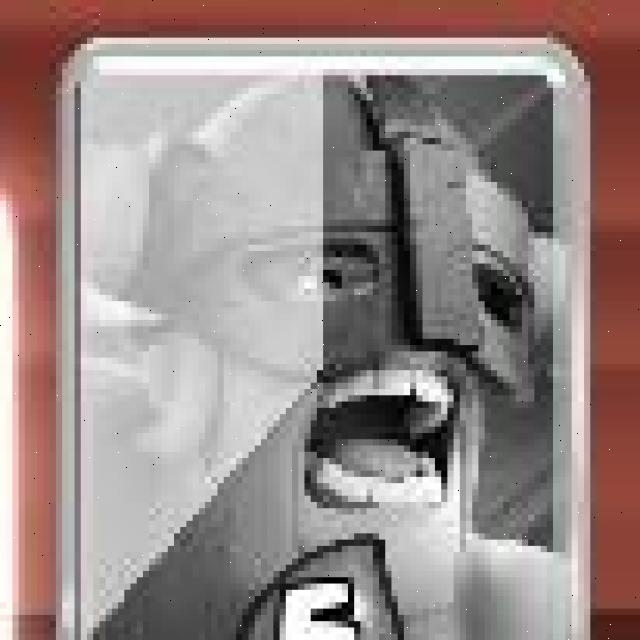Elite_Barbarians: (53, 29, 596, 640)
